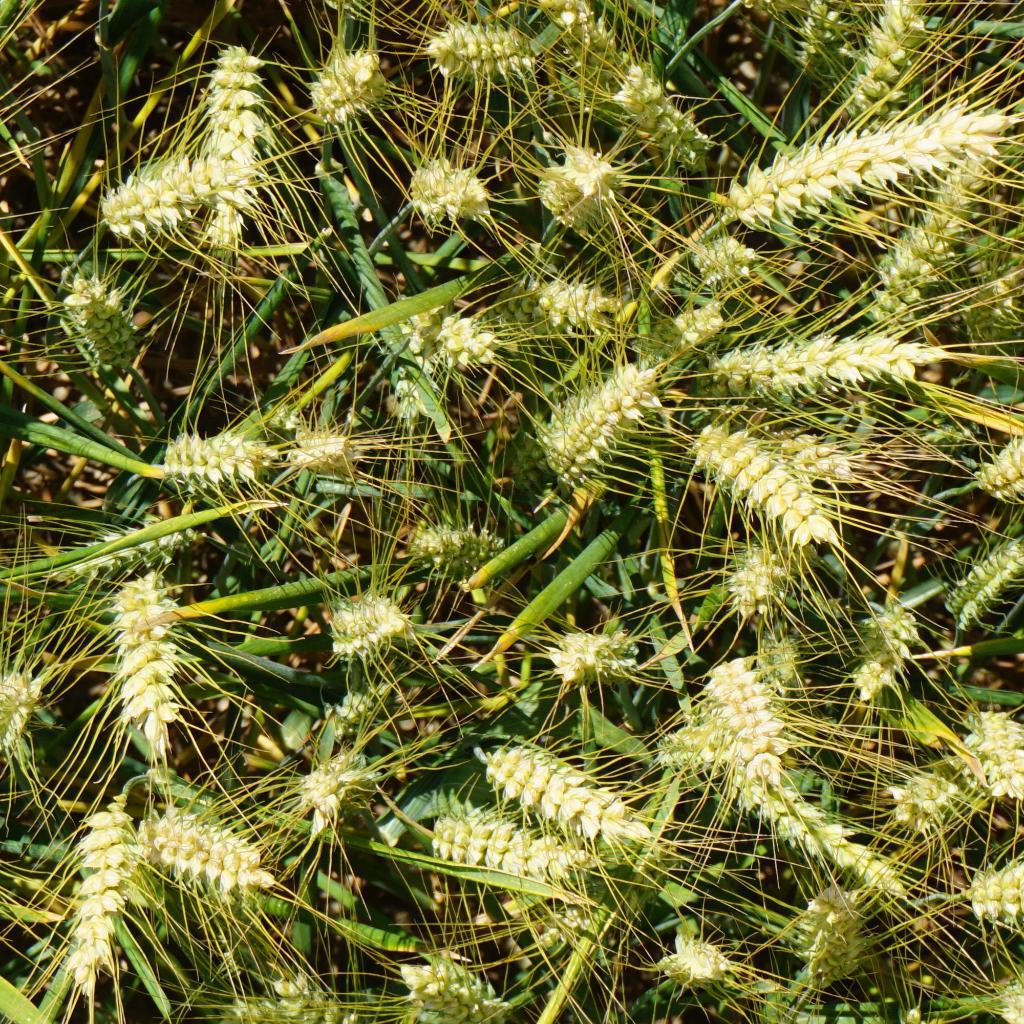0-0: (840, 157, 975, 356), (743, 96, 1015, 188), (480, 738, 643, 860), (711, 327, 964, 404), (684, 420, 836, 544), (748, 763, 892, 884), (519, 352, 656, 472), (537, 0, 662, 123), (143, 802, 271, 905), (109, 581, 183, 756), (429, 803, 576, 888), (840, 0, 939, 124), (199, 45, 261, 240), (55, 261, 160, 374), (75, 806, 140, 981), (935, 243, 1024, 368), (624, 293, 736, 392), (610, 67, 723, 163), (599, 828, 702, 930), (392, 948, 527, 1024), (292, 745, 392, 842), (305, 32, 398, 135), (108, 150, 216, 234), (399, 284, 502, 372), (545, 611, 647, 699), (788, 876, 873, 979), (153, 416, 271, 489), (715, 656, 786, 777), (403, 142, 496, 233), (423, 18, 543, 88), (284, 418, 396, 489), (539, 150, 625, 240), (950, 843, 1024, 943), (843, 595, 920, 691), (740, 607, 816, 704), (645, 707, 739, 785), (500, 268, 608, 332), (309, 670, 402, 744), (515, 894, 611, 965), (314, 585, 411, 654), (284, 967, 396, 1024), (718, 548, 793, 630), (961, 705, 1024, 802), (884, 758, 961, 837), (402, 512, 506, 570), (380, 365, 455, 442), (662, 924, 742, 994), (901, 412, 1000, 466), (950, 543, 1024, 615), (678, 224, 756, 287), (0, 658, 47, 758), (793, 423, 860, 490), (800, 0, 847, 65), (221, 981, 291, 1024), (996, 415, 1024, 495), (881, 1001, 954, 1024), (735, 1007, 830, 1024), (1001, 956, 1024, 1024)
